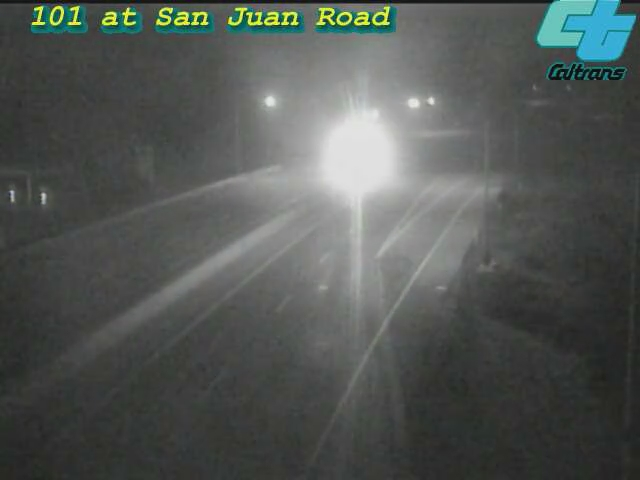vehicle: (324, 126, 374, 176)
